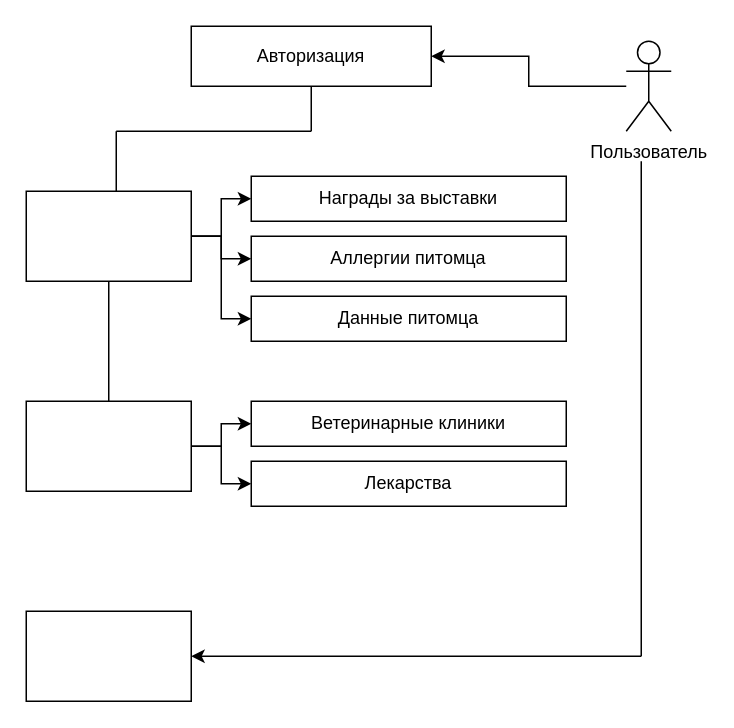
Some shapes in this 734 by 728 pixel diagram are drawn without their labels. The box of each missing label's shape, as (x1, y1, x2, y2) in pixels:
Просмотр истории: (25, 400, 191, 491)
Просмотр профиля: (25, 190, 191, 281)
Техподдержка: (25, 610, 191, 701)
